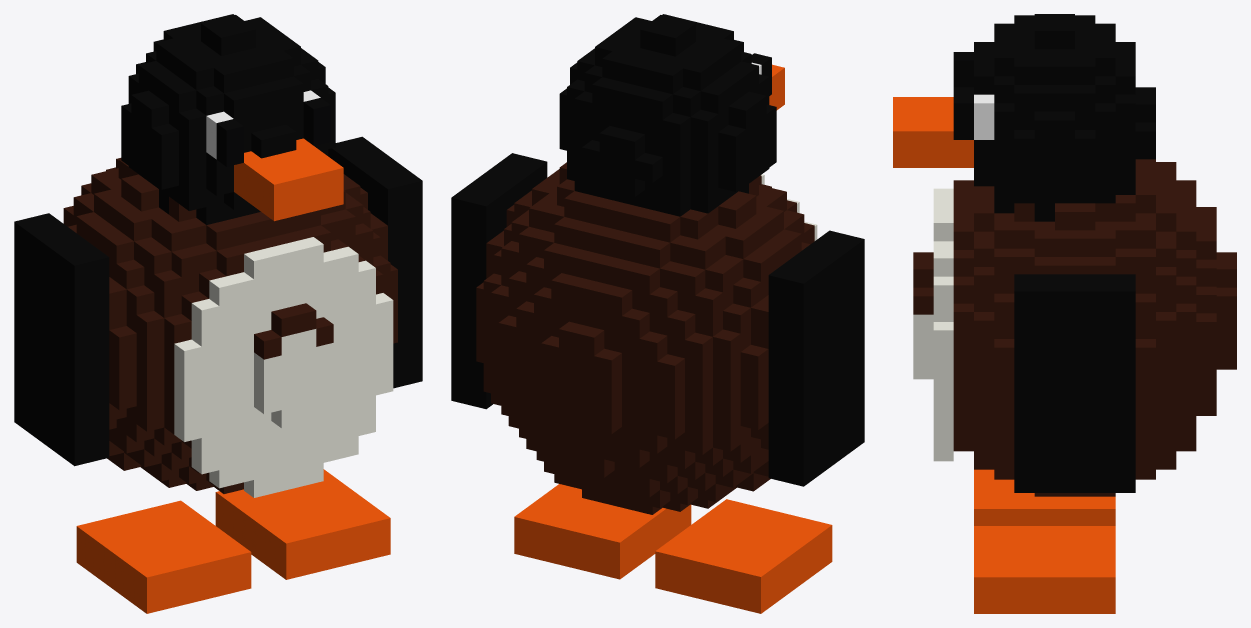
File: penguino_cocosino.glb
3 views of the same model, side by side, from view 1: azimuth 30°, elevation 25°; view 2: azimuth 150°, elevation 25°; view 3: azimuth 270°, elevation 25° (orthographic).
Parts seen in each view (by area): view 1: brainrot; view 2: brainrot; view 3: brainrot.
Boxes of the visible parts, x1,y1,x2,y2 form: brainrot: (14, 14, 422, 613); brainrot: (451, 14, 864, 613); brainrot: (893, 14, 1236, 613).
Size of the model in its own units: 3.45 by 5 by 2.93.
1 material, 1 textured.
